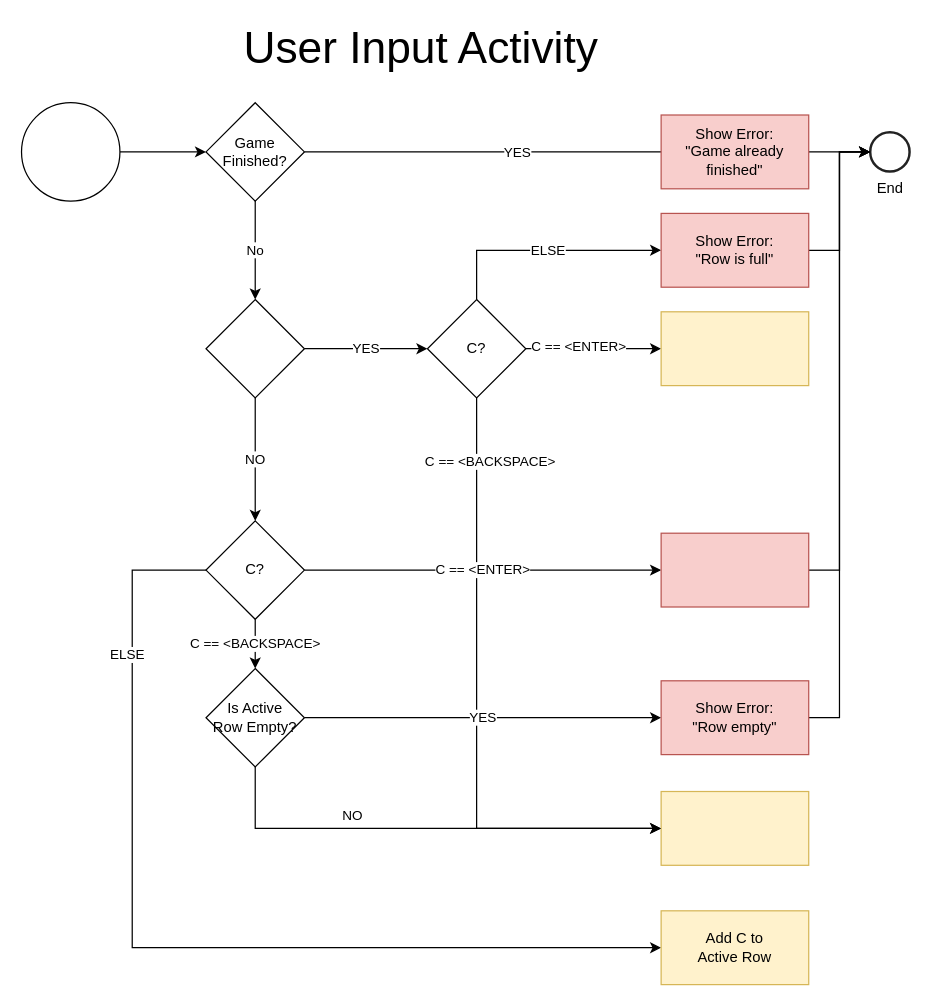
Some shapes in this 932 by 1006 pixel diagram are drawn without their labels. The box of each missing label's shape, as (x1, y1, x2, y2) in pixels:
Active Row Full?: (205, 298, 304, 398)
Remove Last Char (Activity): (660, 790, 809, 865)
Show Error: "Not enough letters": (660, 532, 809, 607)
User enters Char C: (20, 101, 120, 201)
Validate Active Row Input (Activity): (660, 311, 809, 386)
